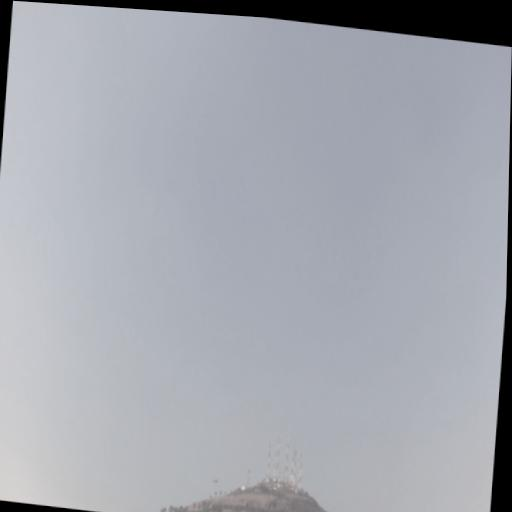drones: (212, 476, 220, 485)
